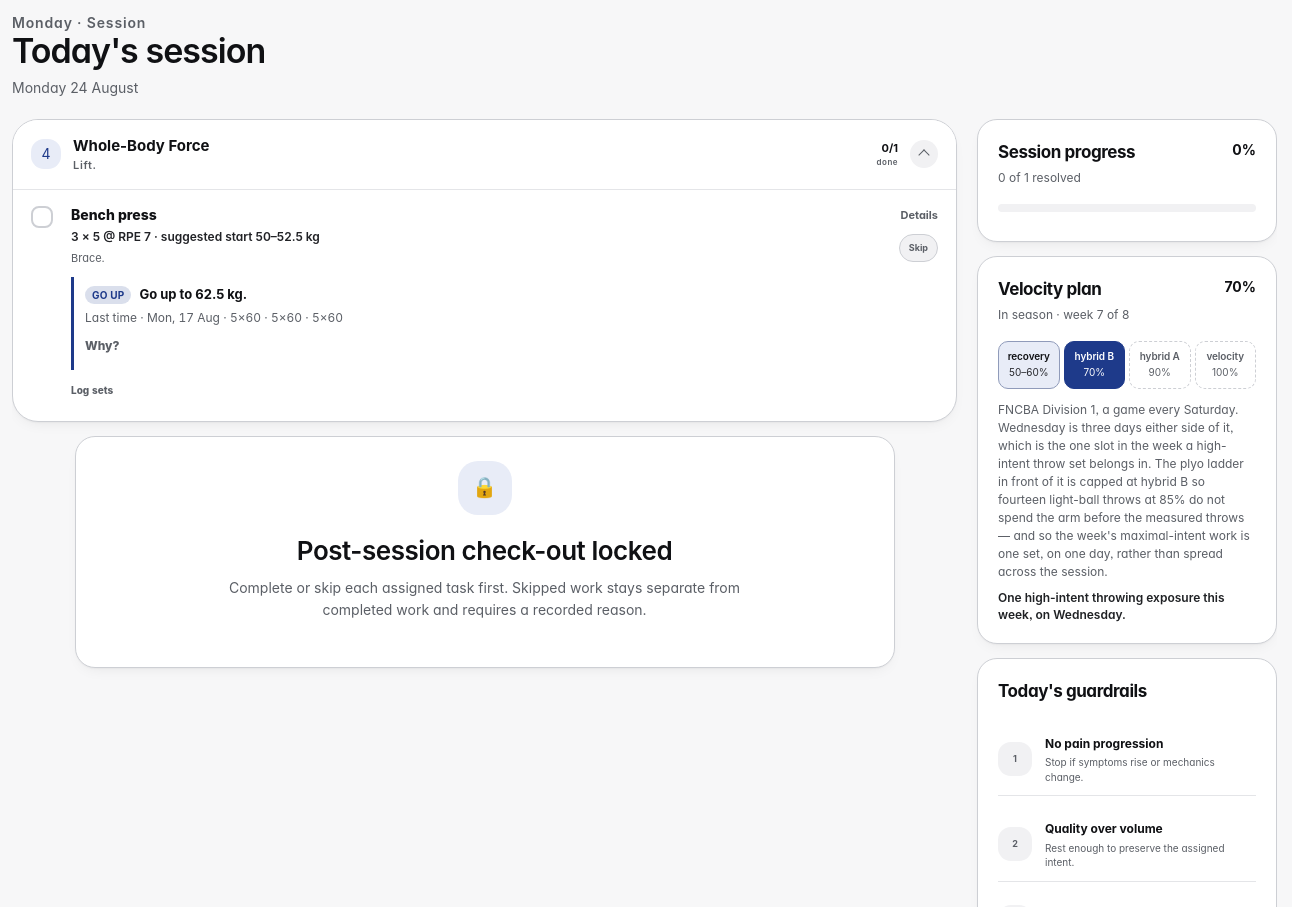
Test: what you lifted last time › opens the logger on the recommended load, not the prescribed one
Click the button "Log sets" at {"x": 92, "y": 390}, box [71, 376, 113, 406]
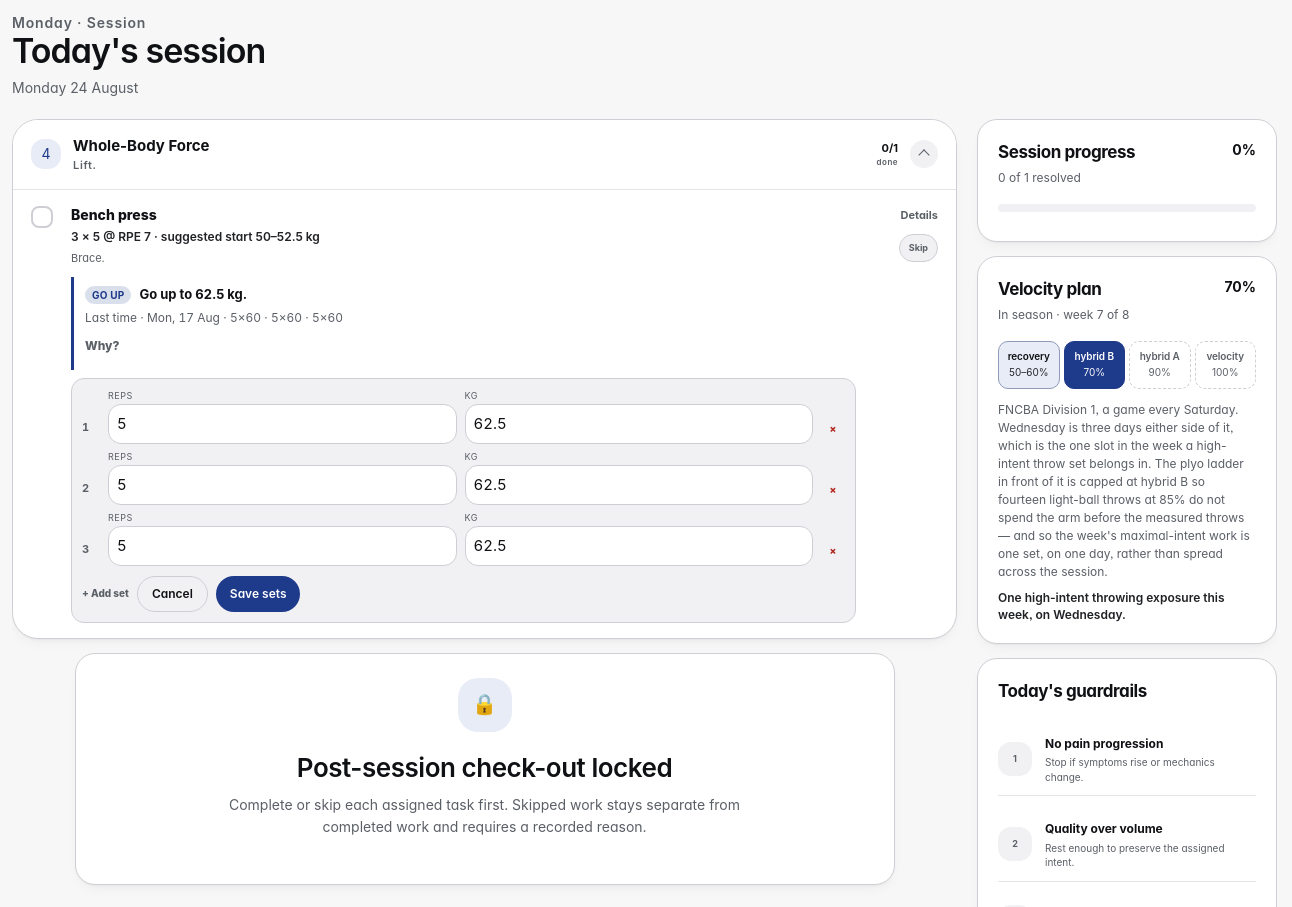
Expected: the number of number fields is 6, [108, 404, 456, 444]; [464, 404, 813, 444]; [108, 465, 456, 505]; [464, 465, 813, 505]; [108, 526, 456, 566]; [464, 526, 813, 566]
Expected: the 1st number field labelled "Reps" holds "5", [108, 404, 456, 444]
Expected: the 1st number field labelled "kg" holds "62.5", [464, 404, 813, 444]
